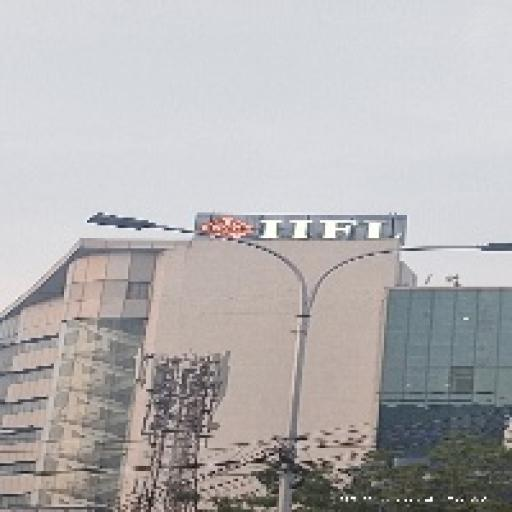Not Working: (80, 202, 160, 241), (469, 232, 512, 259)
